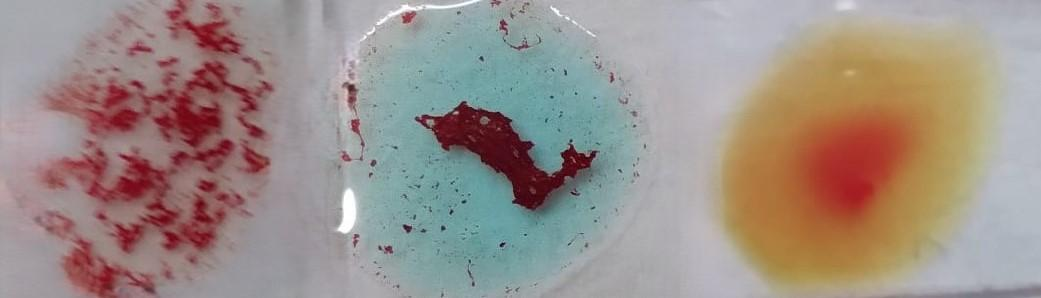A: (335, 2, 645, 298)
D: (21, 0, 263, 298)
